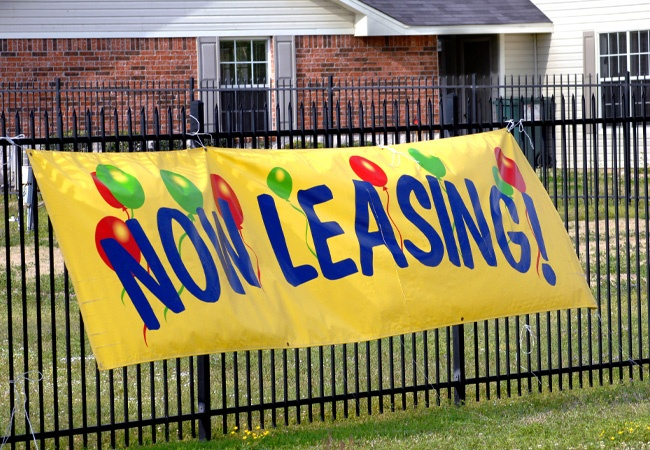vinyl banner: (15, 124, 614, 380)
